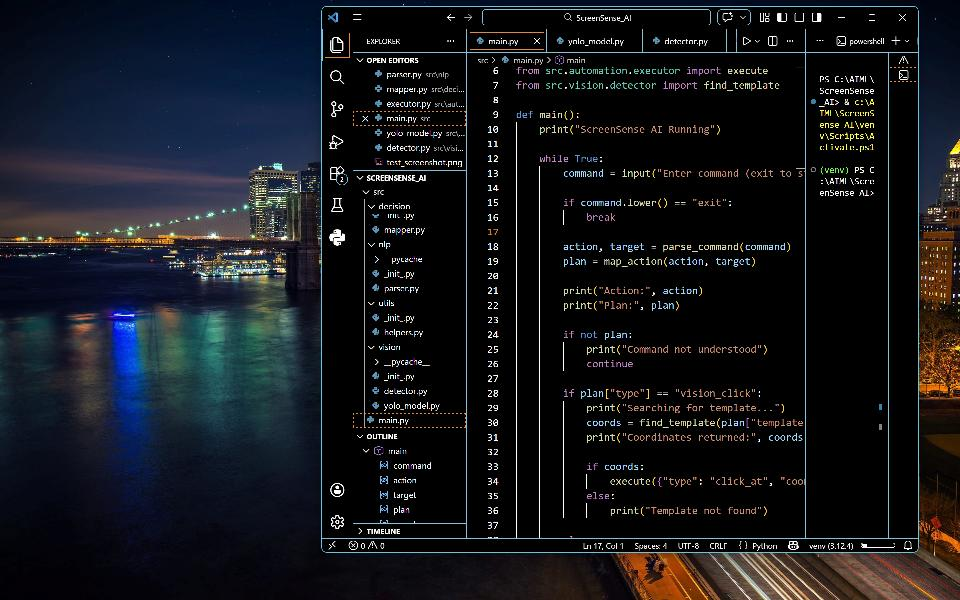close_button: (894, 8, 911, 26)
maximize_button: (862, 8, 882, 26)
minimize_button: (834, 8, 851, 27)
